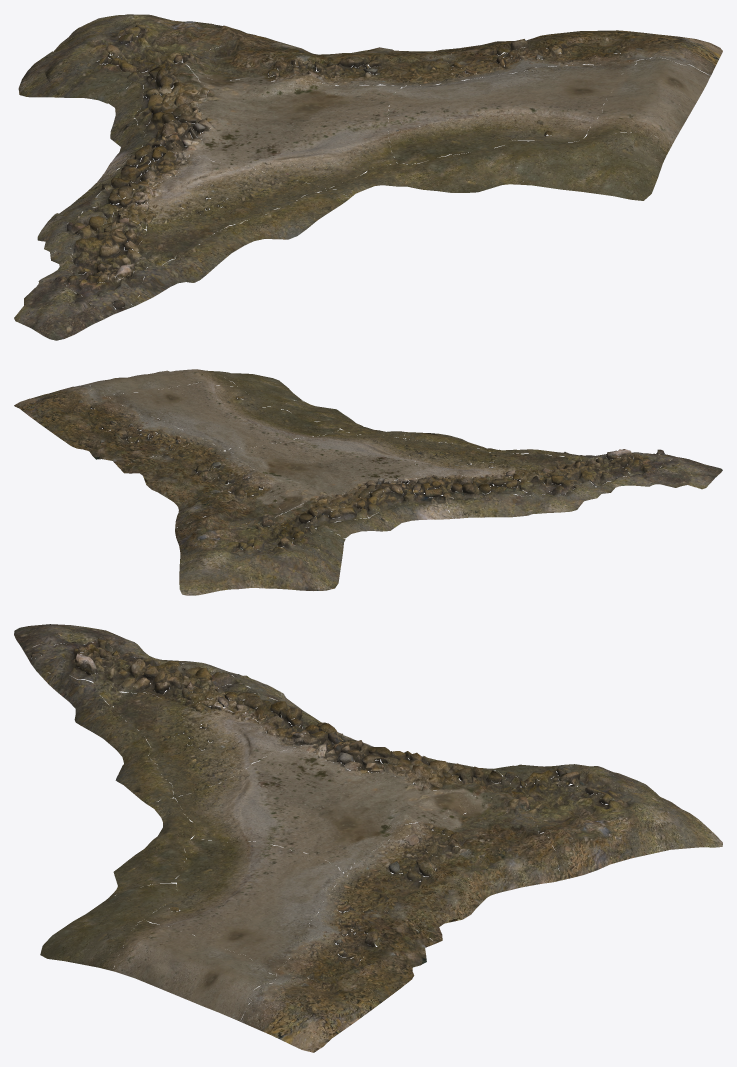
Rendered from coast_rocks_01.glb.
3 views of the same model, one above another, from view 1: azimuth 30°, elevation 25°; view 2: azimuth 150°, elevation 25°; view 3: azimuth 270°, elevation 25° (orthographic). The views are drawn at different scales.
Parts seen in each view (by area): view 1: coast_rocks_01; view 2: coast_rocks_01; view 3: coast_rocks_01.
Part boxes in pixels (x1,y1,x2,y2): coast_rocks_01: (14, 14, 722, 340); coast_rocks_01: (14, 369, 722, 595); coast_rocks_01: (14, 624, 722, 1052).
Size of the model in its own units: 59.5 by 3.27 by 42.53.
Materials: 1 (1 with a texture image).
